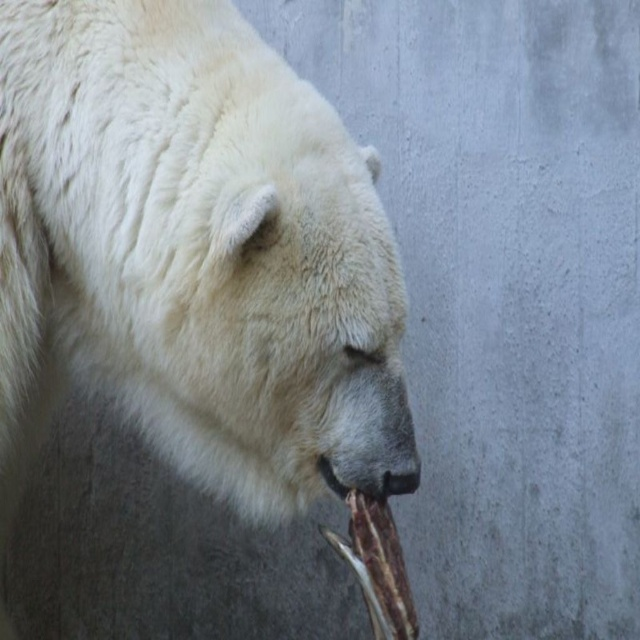Polar bear: (0, 0, 426, 530)
